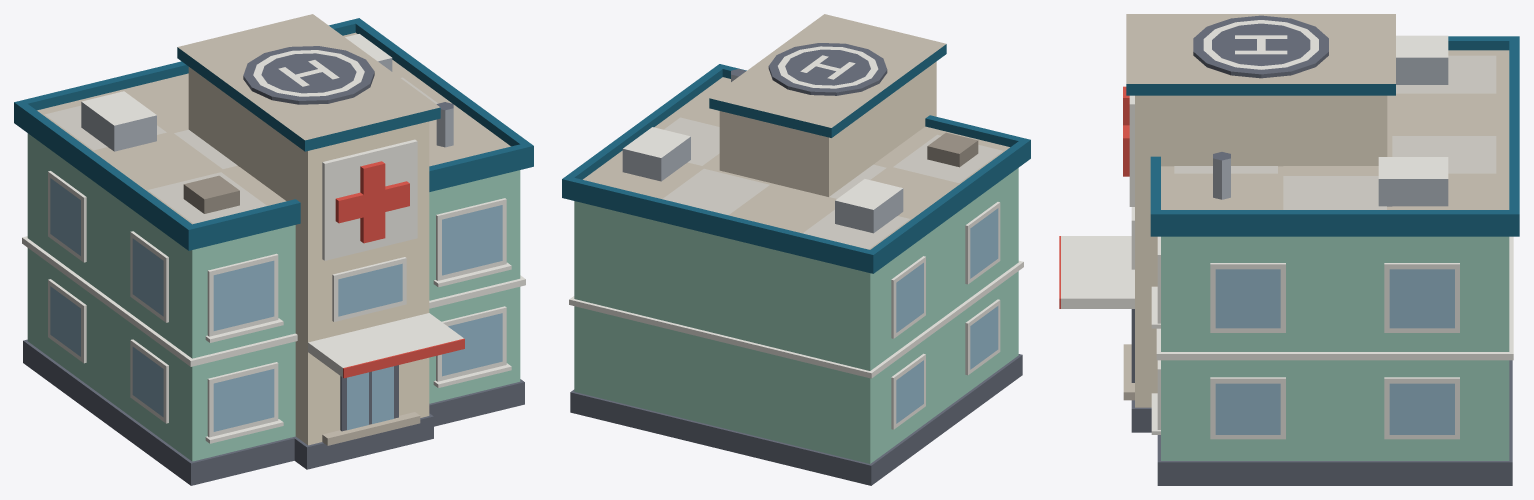
The model's file is B_Hospital.fbx.
3 views of the same model, side by side, from view 1: azimuth 30°, elevation 25°; view 2: azimuth 150°, elevation 25°; view 3: azimuth 270°, elevation 25° (orthographic). The views are drawn at different scales.
Parts seen in each view (by area): view 1: B_Hospital; view 2: B_Hospital; view 3: B_Hospital.
Part boxes in pixels (x1,y1,x2,y2): B_Hospital: (14, 14, 533, 485); B_Hospital: (562, 14, 1030, 485); B_Hospital: (1059, 14, 1519, 485).
Size of the model in its own units: 4.84 by 4.5 by 5.29.
